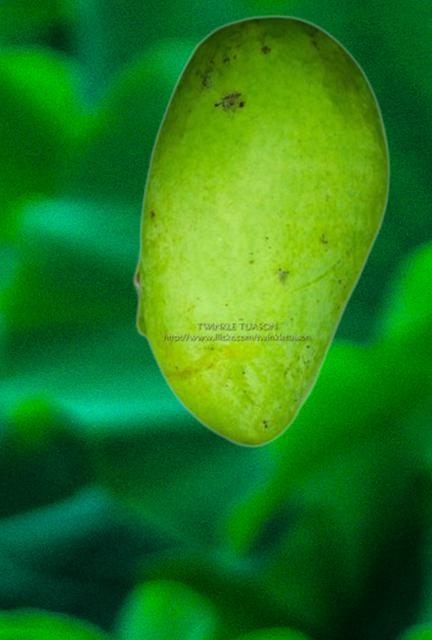green_mango: (132, 14, 390, 447)
